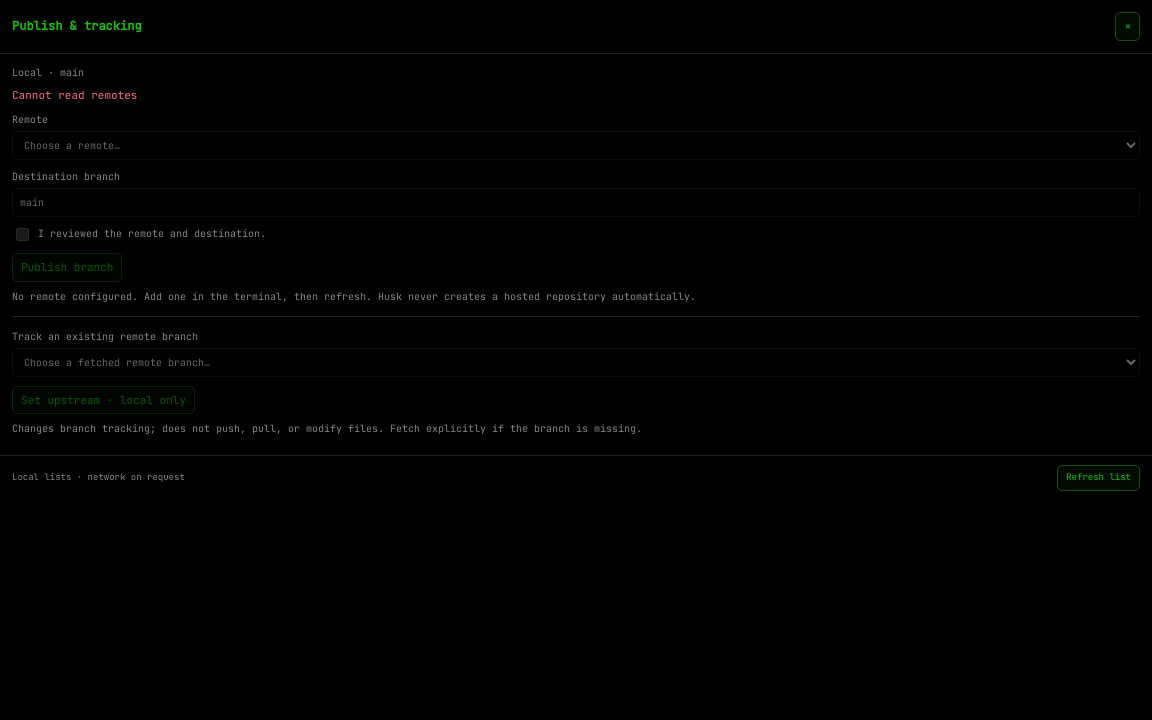
Scenario: keeps reads failing visibly disabled until an explicit retry succeeds
Expected: the message "Cannot read remotes" is shown, [12,88,137,102]
Expected: the button "Publish branch" is disabled, [12,253,122,282]
Click the button "Refresh list". click: point(1099, 478)
box: [1057,465,1140,490]
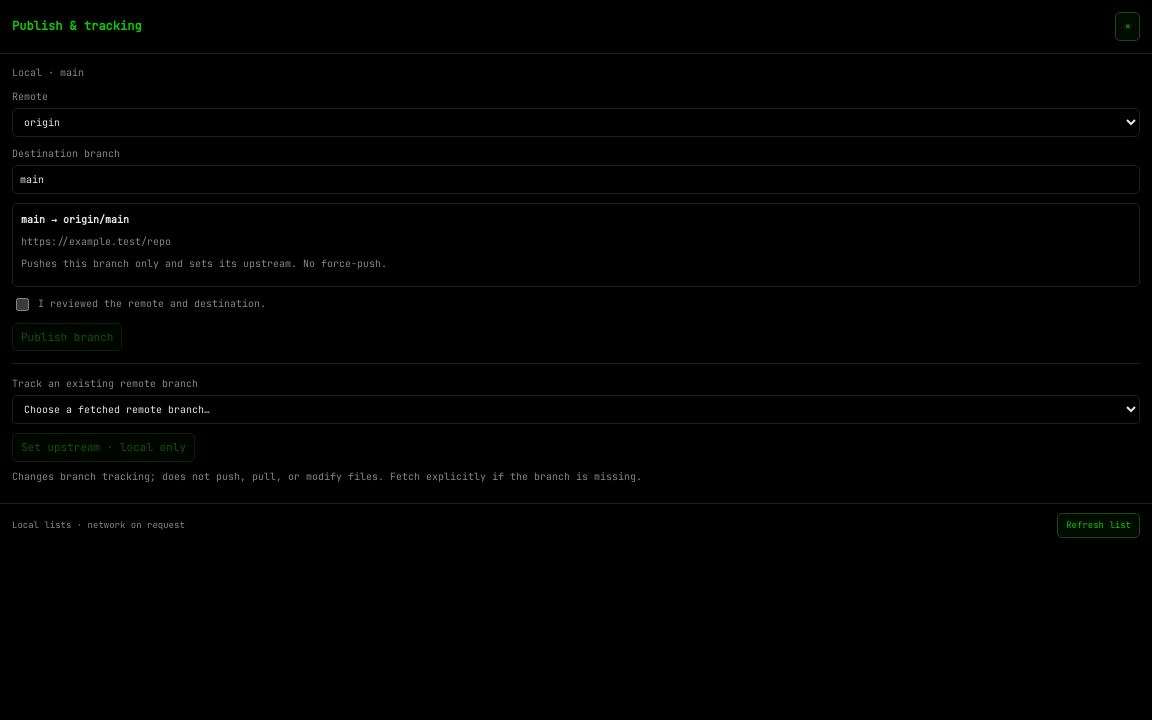
Result: the message "Cannot read remotes" is gone
